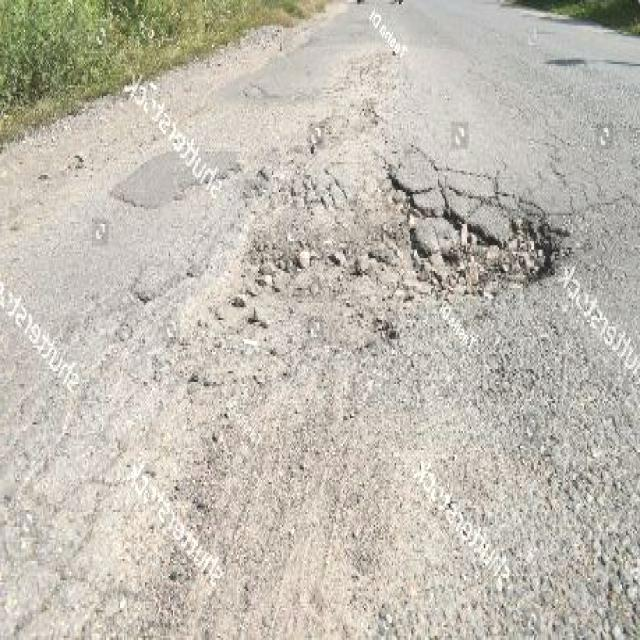Pothole: (390, 162, 569, 299)
